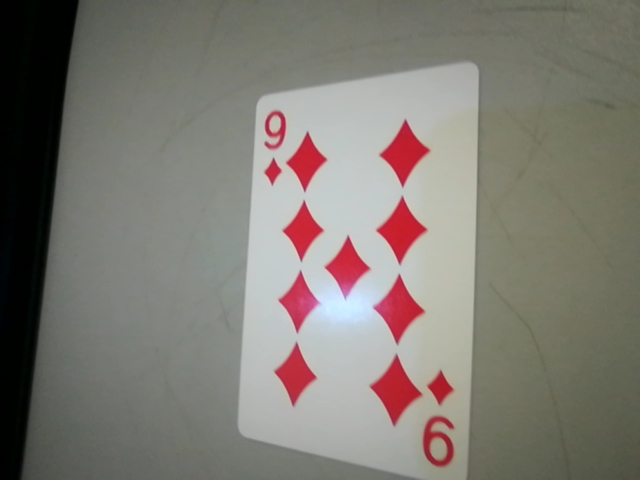fk 9: (411, 362, 471, 480)
